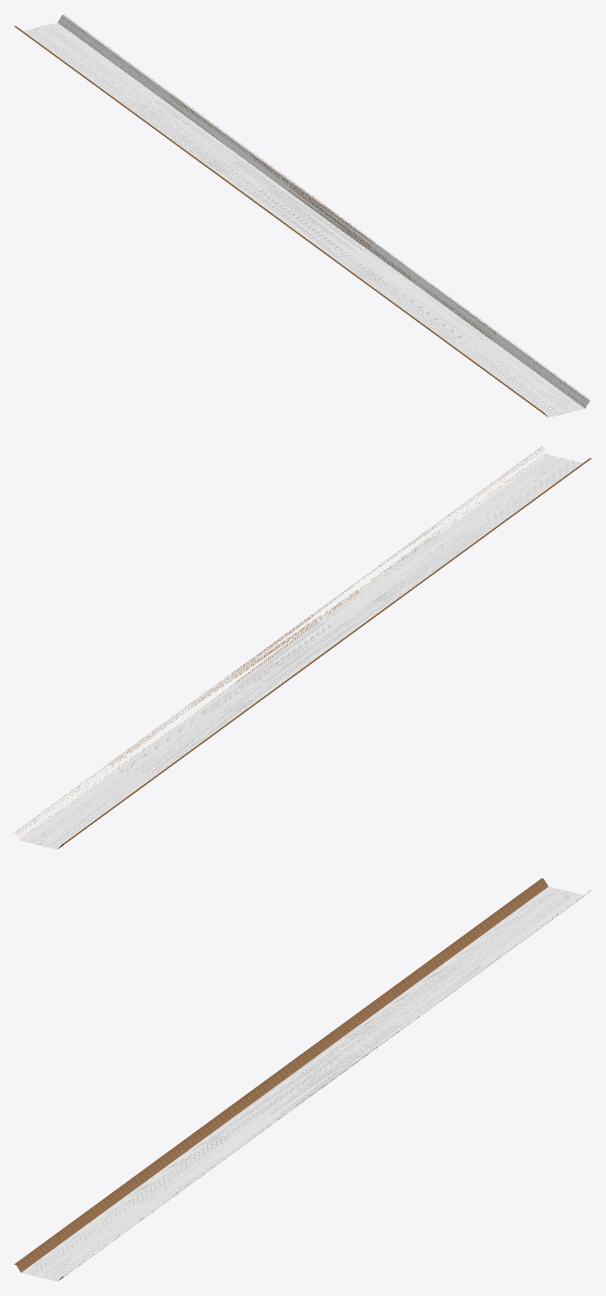
The model's file is circuit_straight.dae.
The picture shows the model from 3 angles, top to bottom: view 1: azimuth 30°, elevation 25°; view 2: azimuth 150°, elevation 25°; view 3: azimuth 330°, elevation 25°; orthographic projection.
Parts seen in each view (by area): view 1: Component_1 (×7); view 2: Component_1 (×7); view 3: Component_1 (×6).
Part boxes in pixels (left/top/right/bottom): Component_1 (×7): left=14, top=14, right=591, bottom=417; Component_1 (×7): left=14, top=446, right=591, bottom=849; Component_1 (×6): left=14, top=878, right=591, bottom=1280.
Bounding box in the file's own units: 43.31 × 787 × 5.51.
